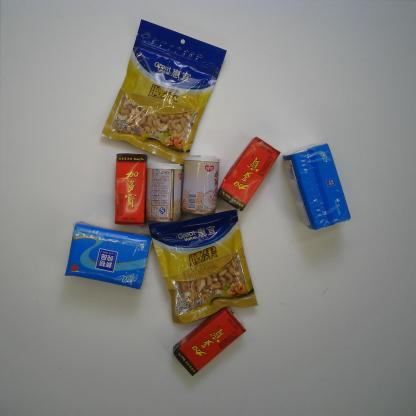Canned Food: (180, 154, 221, 216), (145, 162, 184, 224)
Dried Fruit: (99, 17, 228, 165), (148, 207, 258, 324)
Drink: (173, 305, 247, 378), (217, 135, 281, 213), (114, 152, 149, 226)
Tissue: (281, 142, 352, 232), (63, 219, 152, 290)
